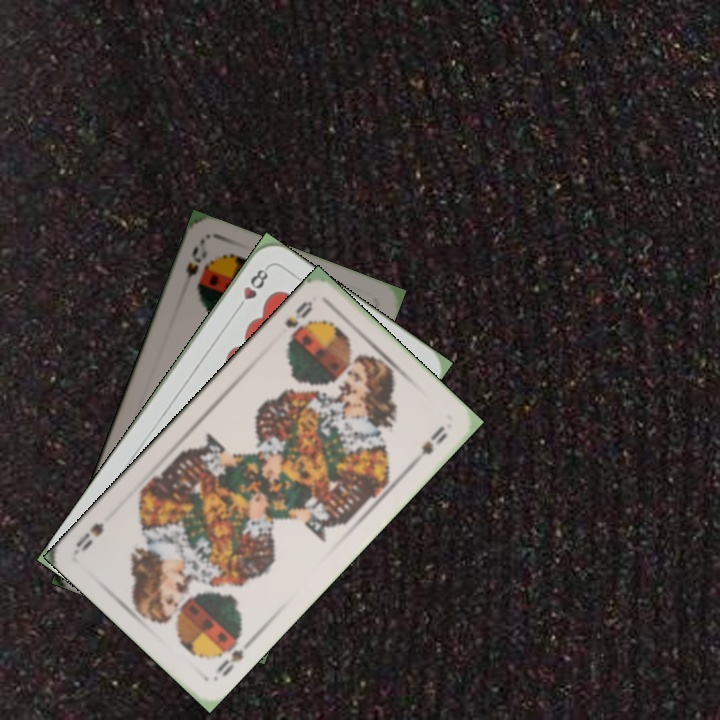H8: (232, 263, 271, 315)
SO: (209, 628, 256, 683), (281, 297, 316, 347), (182, 241, 210, 281)
